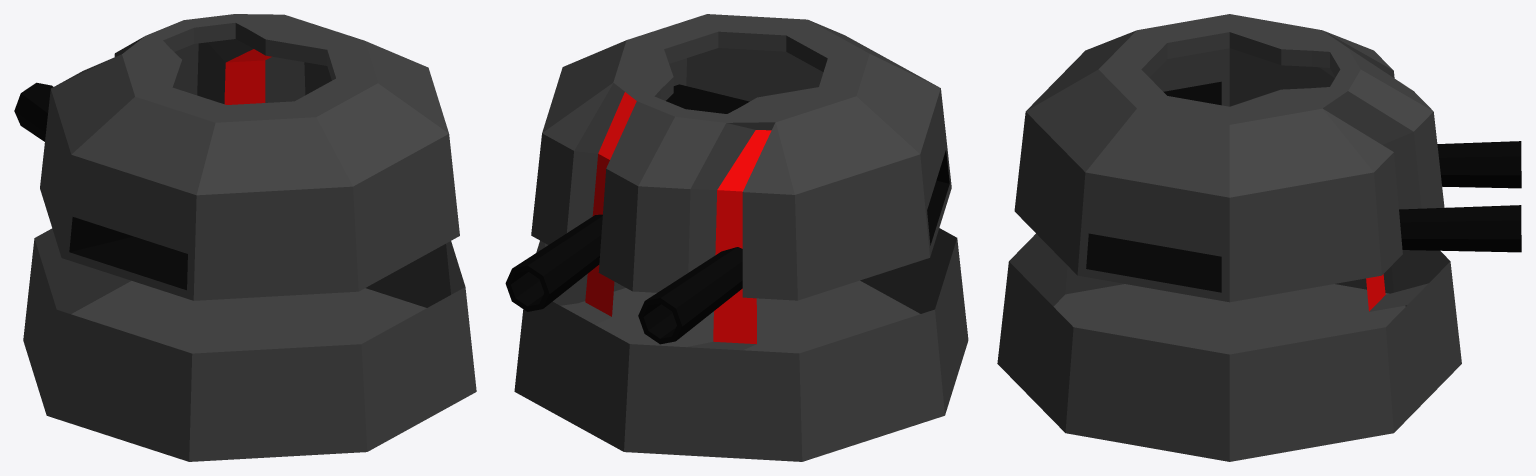
File: Turret.fbx
The picture shows the model from 3 angles, left to right: view 1: azimuth 30°, elevation 25°; view 2: azimuth 150°, elevation 25°; view 3: azimuth 270°, elevation 25°; orthographic projection.
Visible parts, largest first — view 1: TurretBase, TurretBarrel; view 2: TurretBase, TurretBarrel; view 3: TurretBase, TurretBarrel.
Boxes of the visible parts, bbox=[...] form: TurretBase: bbox=[23, 14, 476, 461]; TurretBarrel: bbox=[14, 82, 53, 141]; TurretBase: bbox=[514, 14, 968, 461]; TurretBarrel: bbox=[505, 214, 742, 344]; TurretBase: bbox=[997, 14, 1461, 461]; TurretBarrel: bbox=[1399, 141, 1521, 252].
Size of the model in its own units: 148 by 104 by 167.
